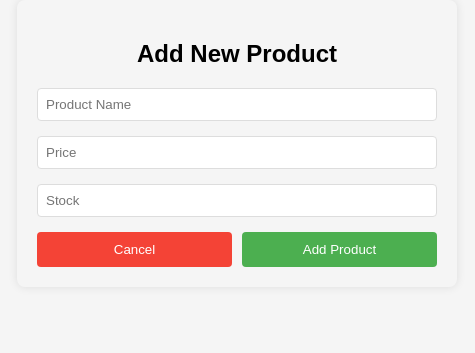
Test: AddProduct Page › should display error message on product creation failure
In the field with placeholder "Product Name": (237, 104) top-left (37, 88), bottom-right (437, 121), type "Test Product"
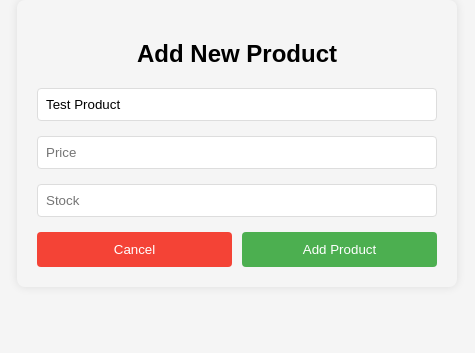
In the number field with placeholder "Price": (237, 152) top-left (37, 136), bottom-right (437, 169), type "99.99"
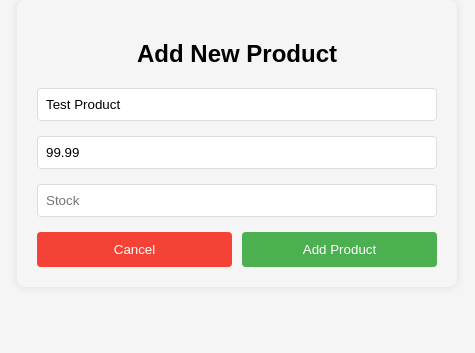
In the number field with placeholder "Stock": (237, 200) top-left (37, 184), bottom-right (437, 217), type "10"
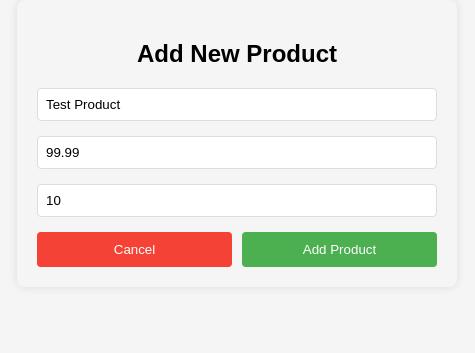
Click the button "Add Product": (340, 249) top-left (242, 232), bottom-right (437, 267)
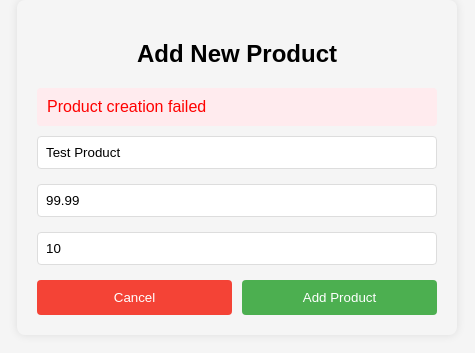
Check: the text "Product creation failed" is shown, box top-left (37, 88), bottom-right (437, 126)
